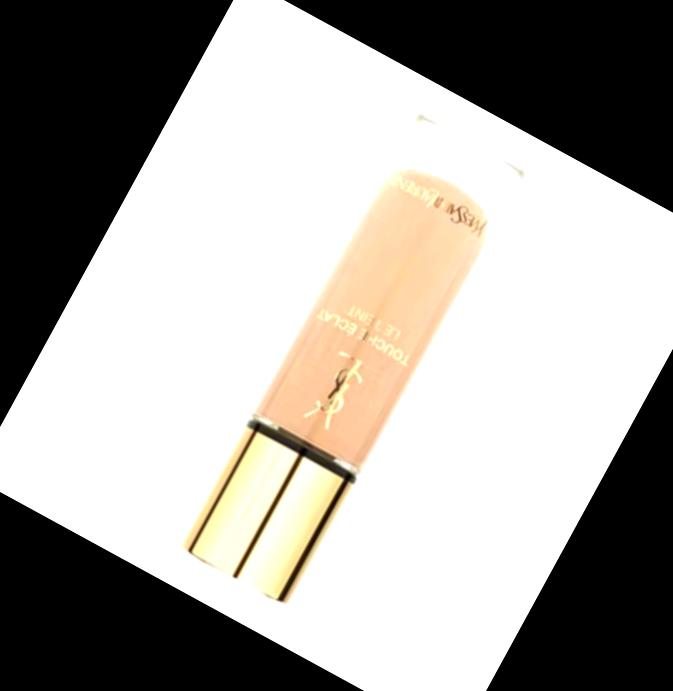cosmetic: (171, 99, 532, 611)
